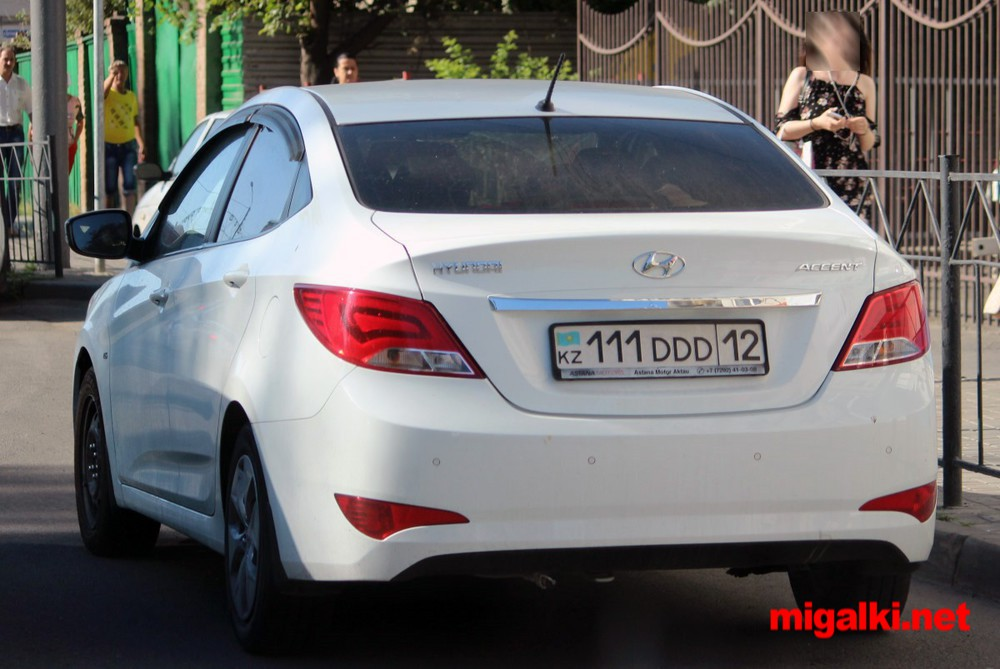license_plate: (553, 325, 766, 377)
